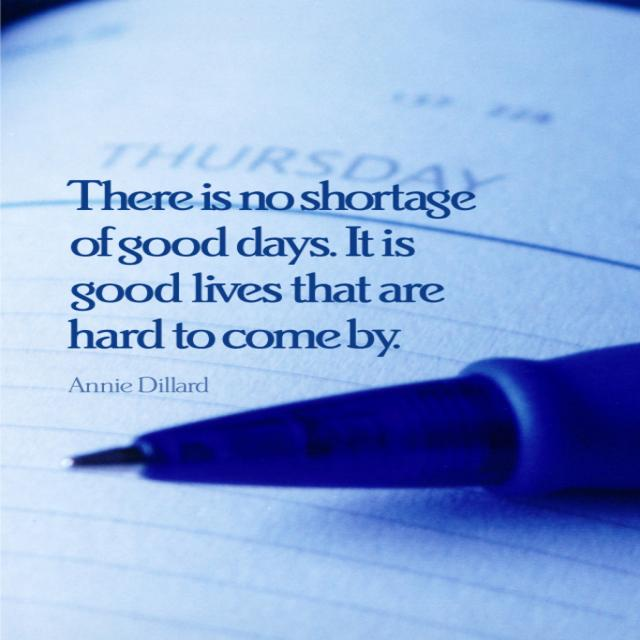pen: (53, 342, 639, 499)
